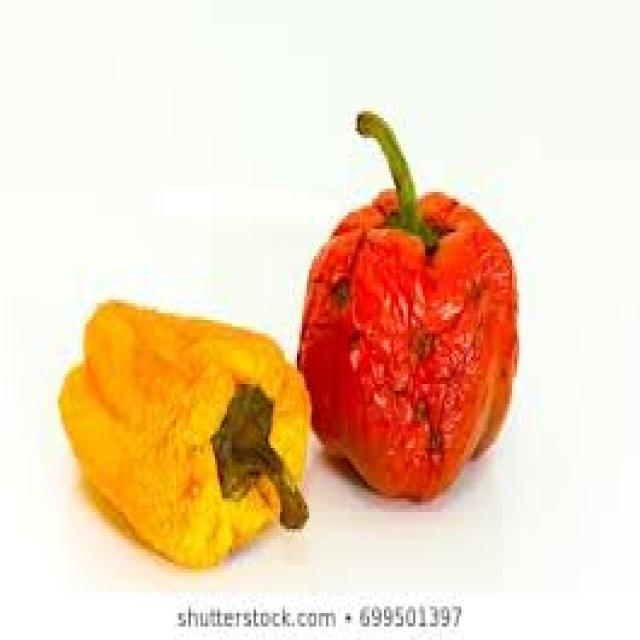organic waste: (299, 108, 517, 502), (53, 296, 307, 570)
